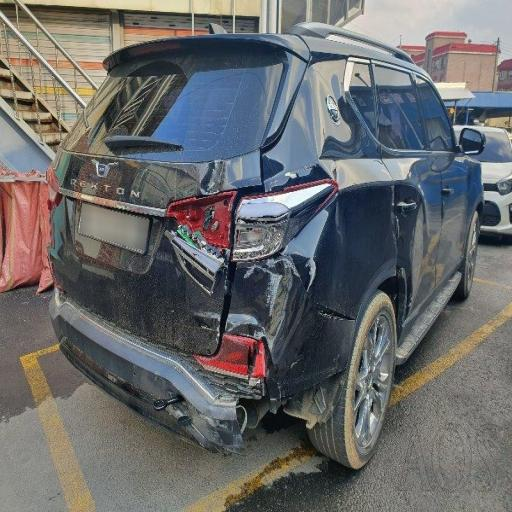broken: (122, 126, 370, 472)
